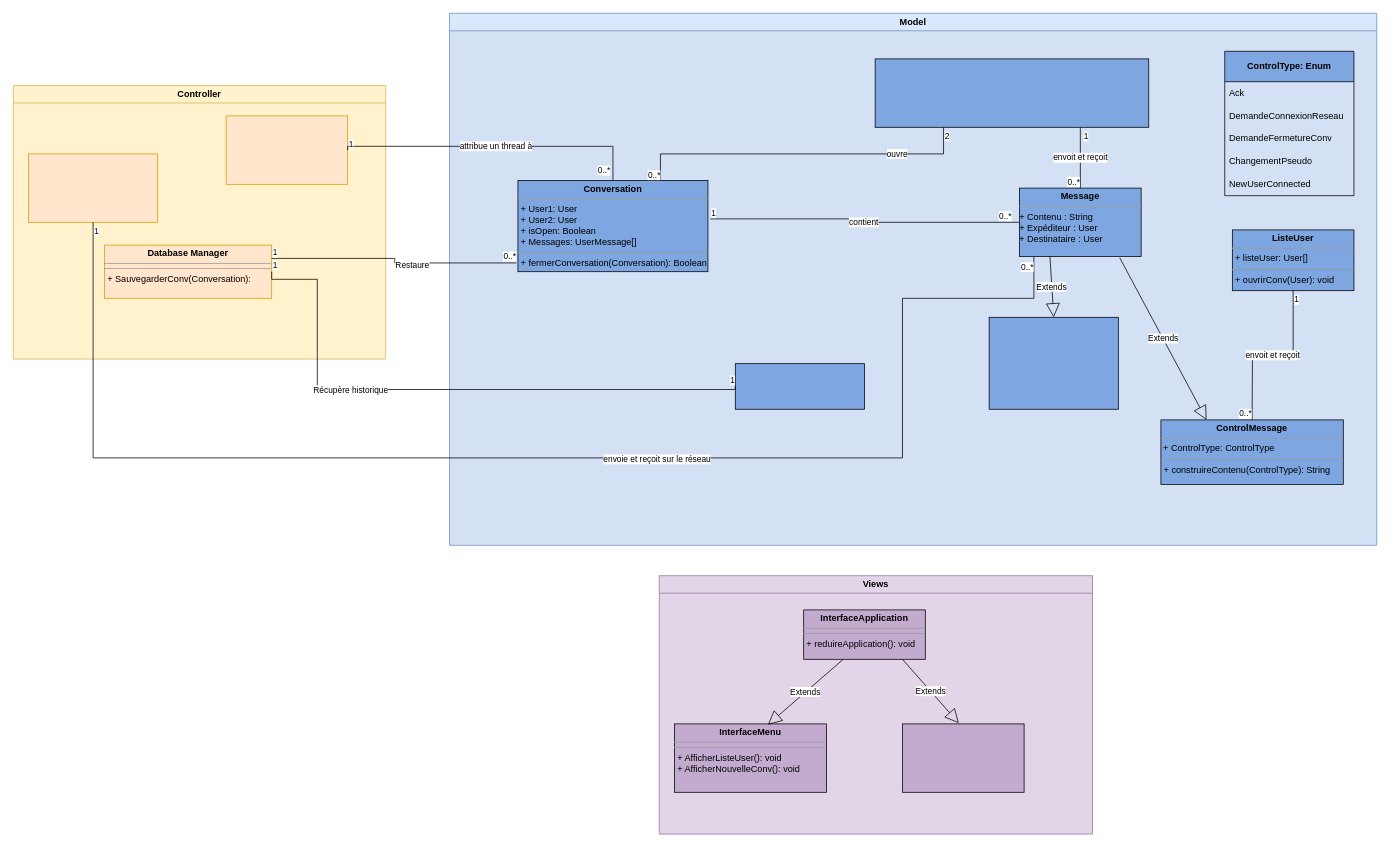
This 1390x847 diagram has some shape labels left out. The shapes that lost their labels are listed below. From the top down, each one's centre as x and y in pixels, then its label:
the point at 1011,92: User + pseudo: String + ChangerPseudo(String): void
the point at 286,149: Thread Manager + ListeThread: Thread[] + creerThread(): Thread
the point at 93,187: Network Manager + EnvoyerMessage(Message)
the point at 1053,363: UserMessage + Date : Date + Payload : String + construireContenu(): String
the point at 799,386: Database + Historique : Conversation[]
the point at 963,757: InterfaceConversation + afficherMessage(): void + afficherUser(): void
